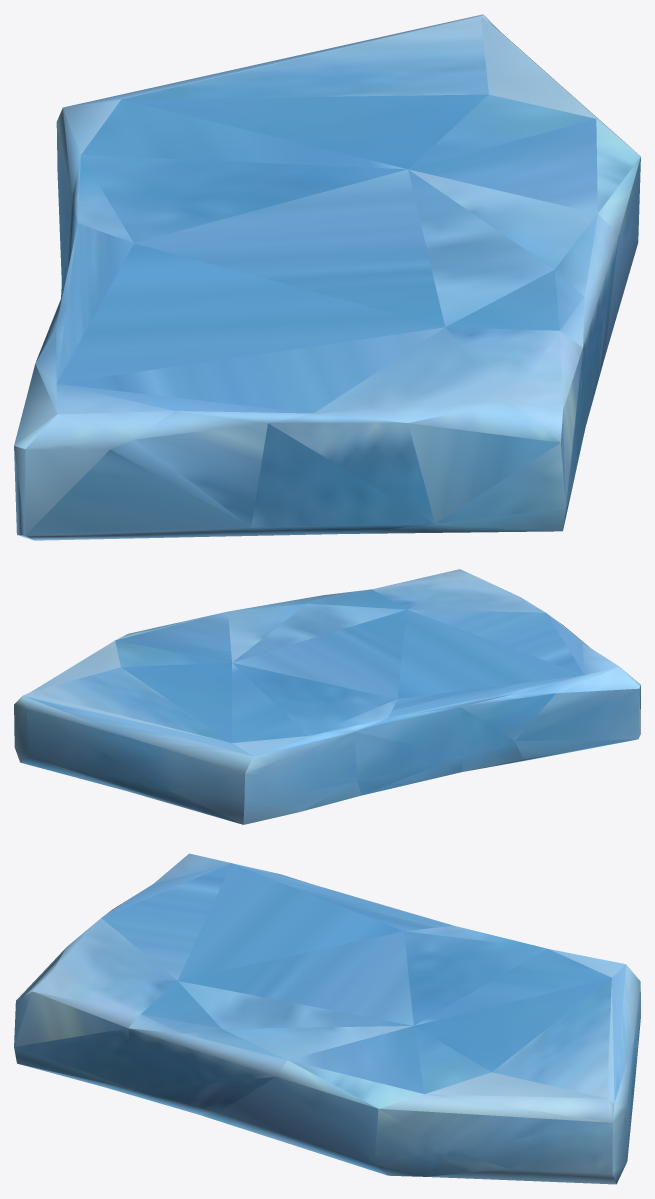
The model's file is placa_hielo_rota_2.glb.
3 renders of one model, top to bottom at view 1: azimuth 30°, elevation 25°; view 2: azimuth 150°, elevation 25°; view 3: azimuth 270°, elevation 25°, orthographic. The views are drawn at different scales.
Parts seen in each view (by area): view 1: placa_hielo_rota_2_malla; view 2: placa_hielo_rota_2_malla; view 3: placa_hielo_rota_2_malla.
Boxes of the visible parts, x1,y1,x2,y2 form: placa_hielo_rota_2_malla: [14, 14, 640, 540]; placa_hielo_rota_2_malla: [14, 569, 640, 824]; placa_hielo_rota_2_malla: [14, 853, 640, 1184].
Size of the model in its own units: 0.1837 by 0.0277 by 0.1834.
Materials: 1 (1 with a texture image).
